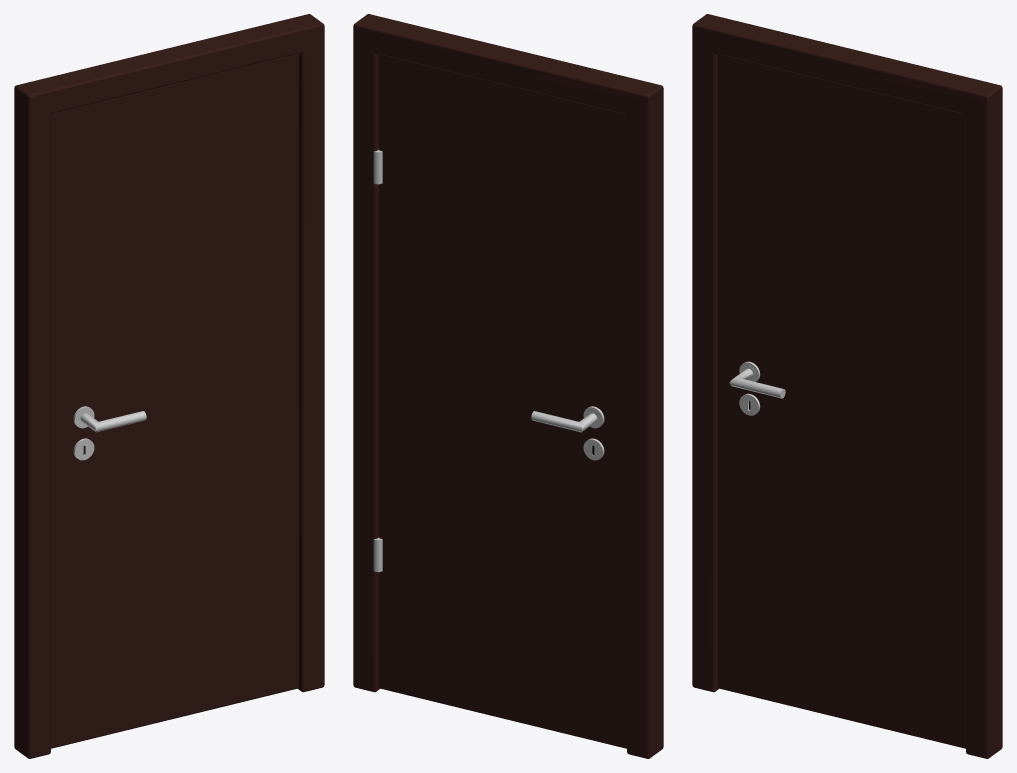
File: Door.fbx
3 views of the same model, side by side, from view 1: azimuth 30°, elevation 25°; view 2: azimuth 150°, elevation 25°; view 3: azimuth 330°, elevation 25° (orthographic).
Visible parts, largest first — view 1: Door, DoorFrame; view 2: Door, DoorFrame; view 3: Door, DoorFrame.
Part boxes in pixels (<box>): Door: <box>51,53,298,748</box>; DoorFrame: <box>14,14,324,758</box>; Door: <box>379,53,626,748</box>; DoorFrame: <box>353,14,663,758</box>; Door: <box>718,53,965,748</box>; DoorFrame: <box>692,14,1002,758</box>.
Bounding box in the file's own units: 98.17 × 210 × 25.21.
